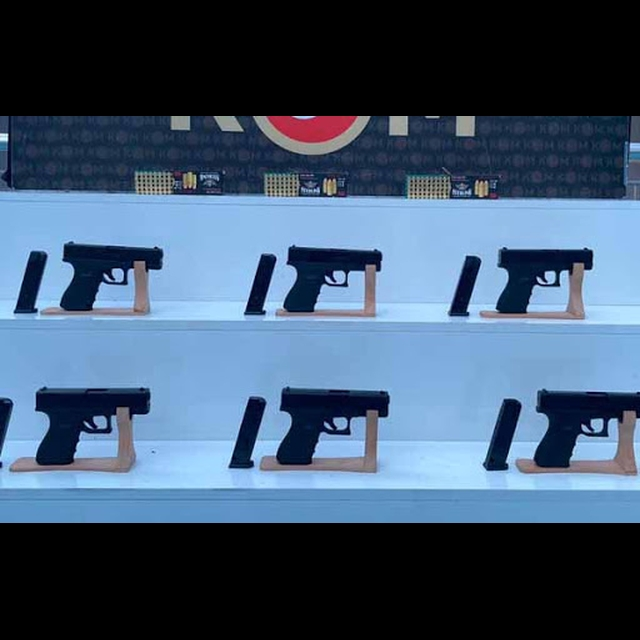SILAH: (274, 385, 394, 465), (34, 387, 153, 467), (531, 386, 640, 470), (58, 241, 164, 311), (280, 244, 385, 314), (494, 246, 594, 315)
